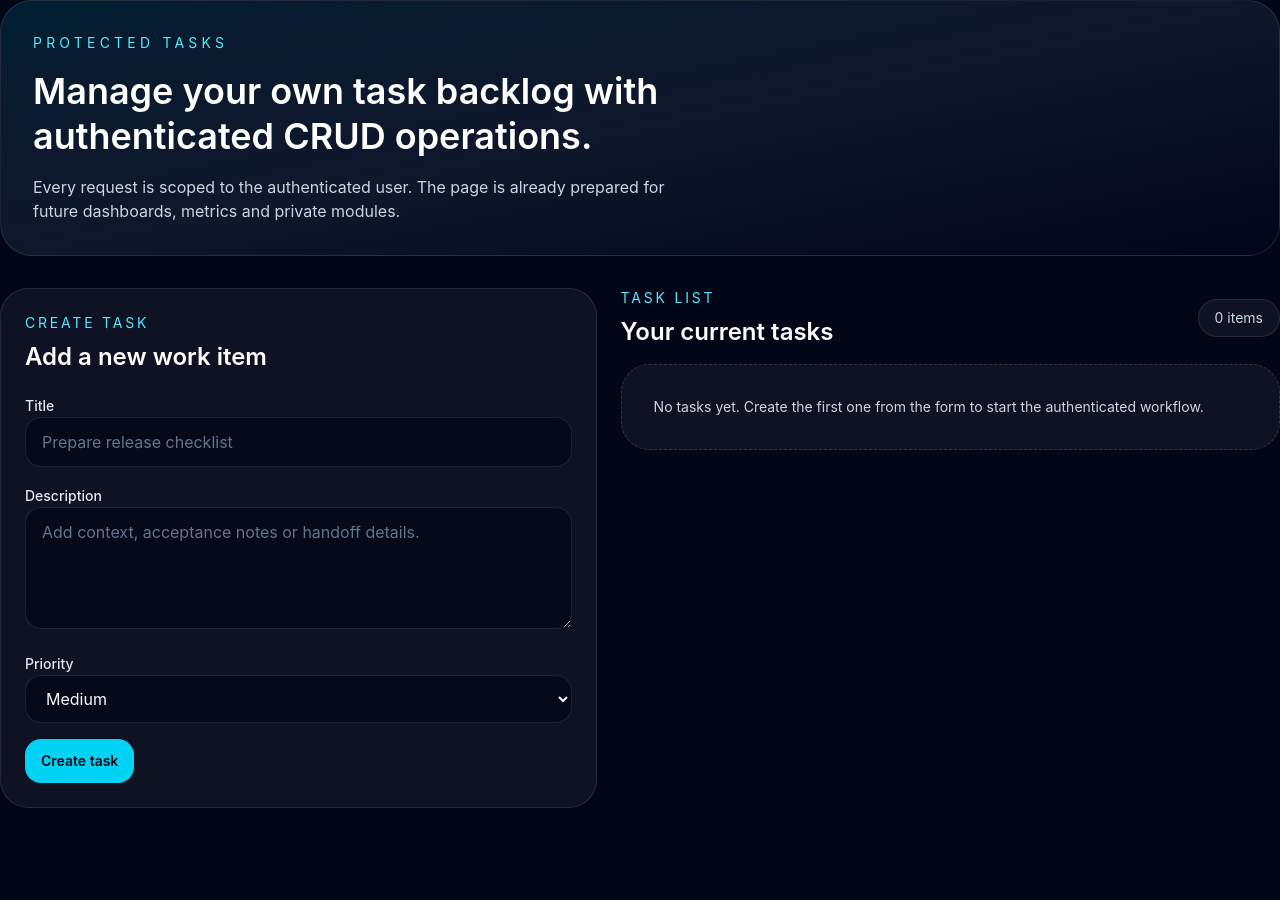
Test: TasksPage › creates a task through the form
Type "Create test task" into the field labelled "Title" at (298, 442), box [25,417,572,467]
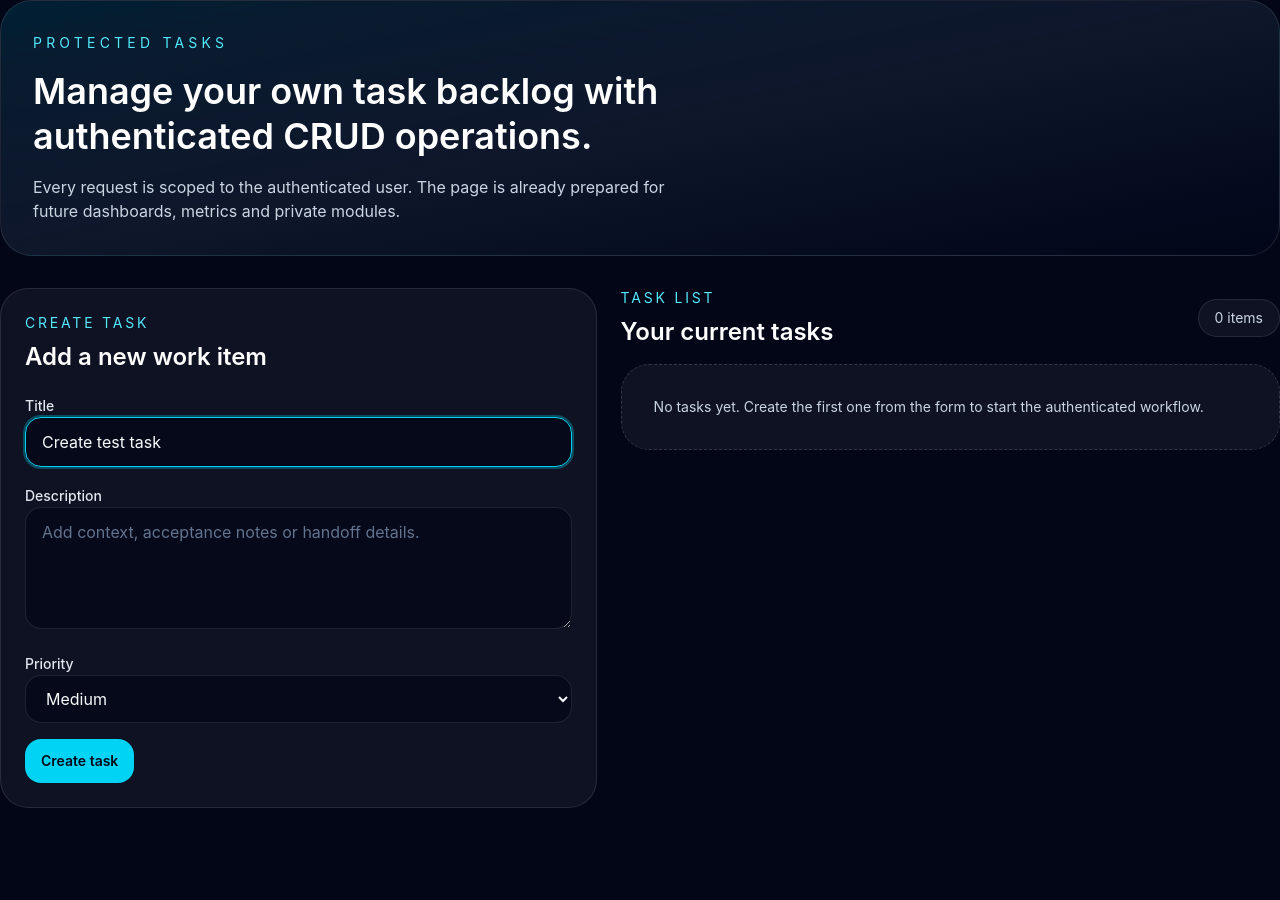
Type "Body" into the text box labelled "Description" at (298, 568), box [25,507,572,629]
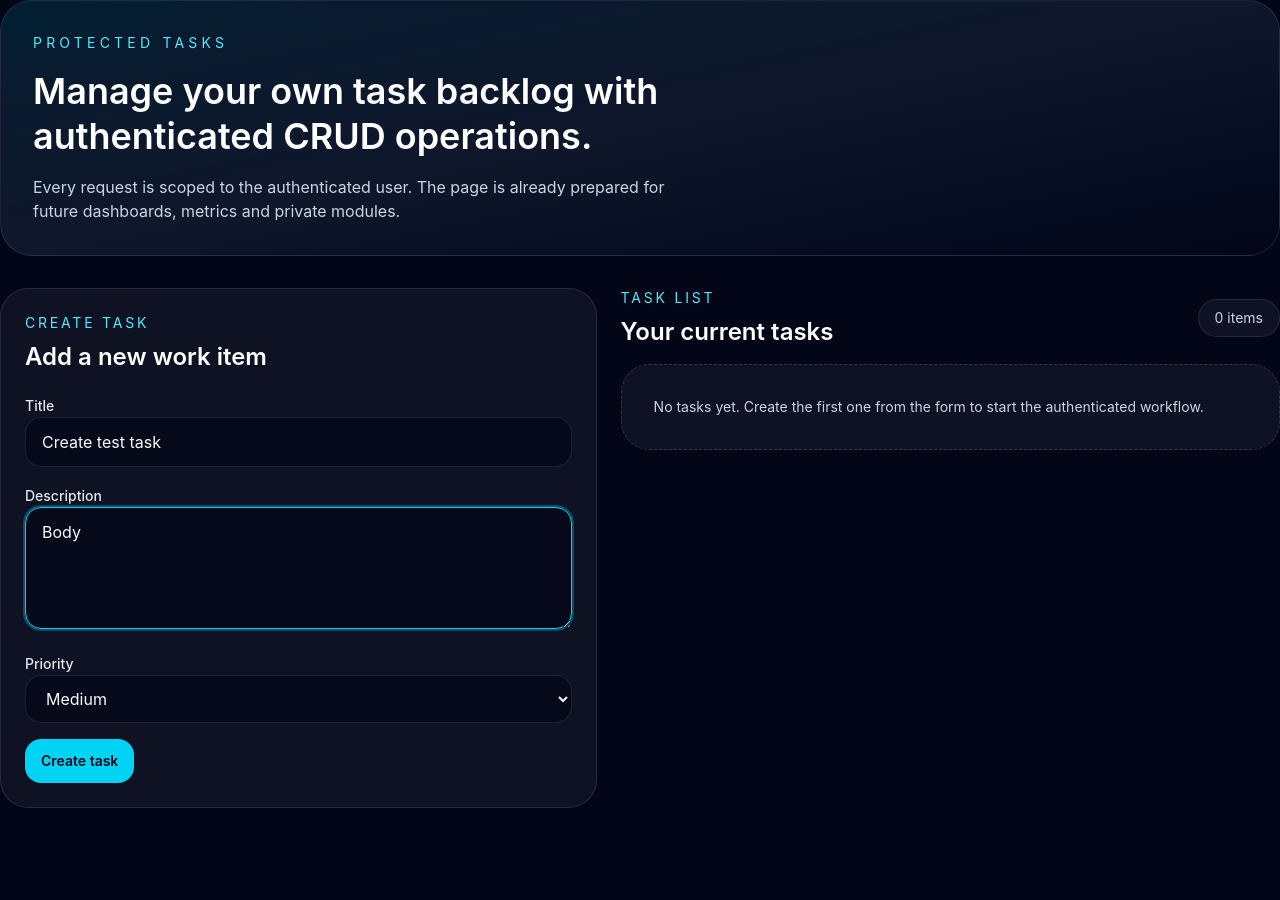
Select "High" in the dropdown labelled "Priority" at (298, 699), box [25,675,572,723]
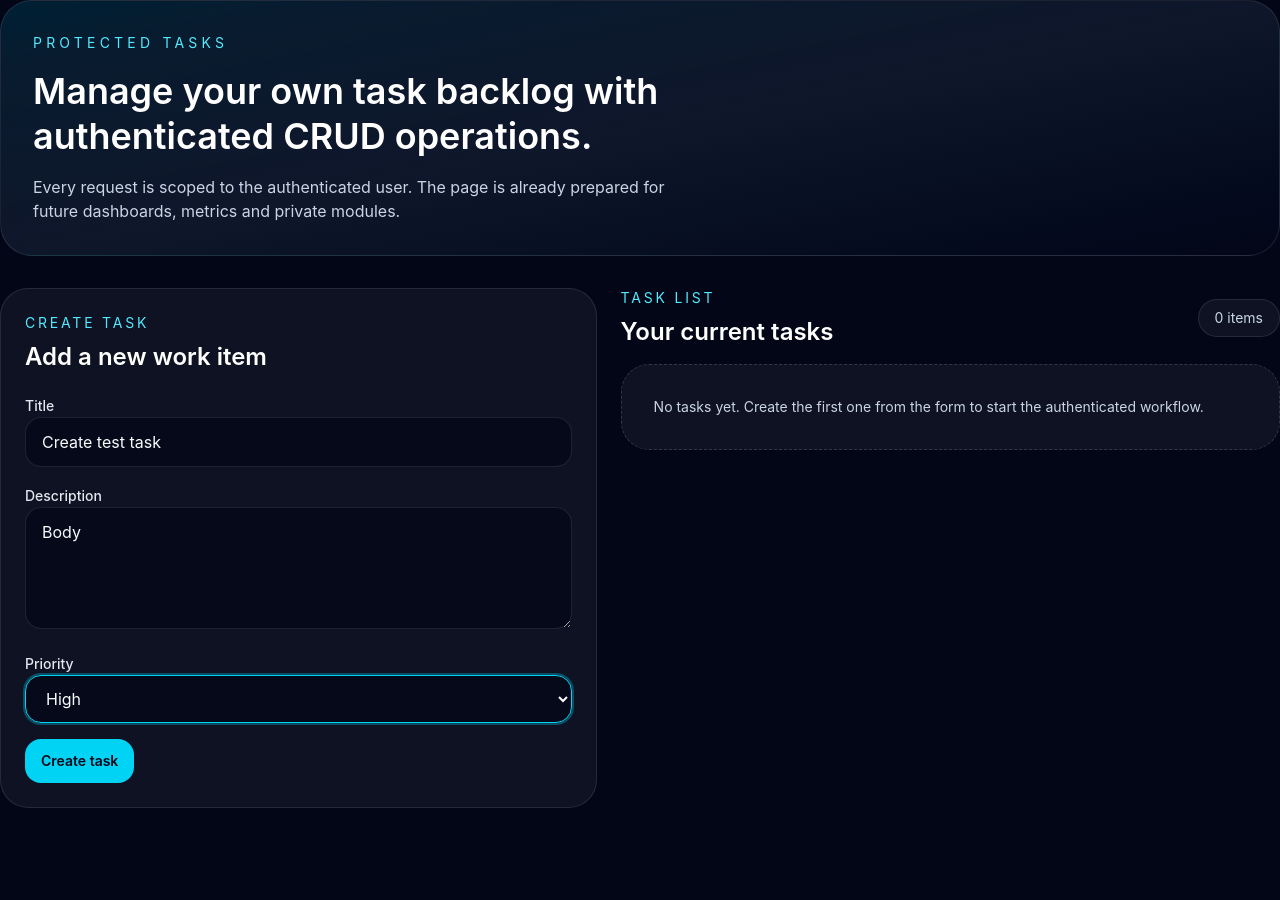
Click the button "Create task" at (80, 761), box [25,739,134,783]
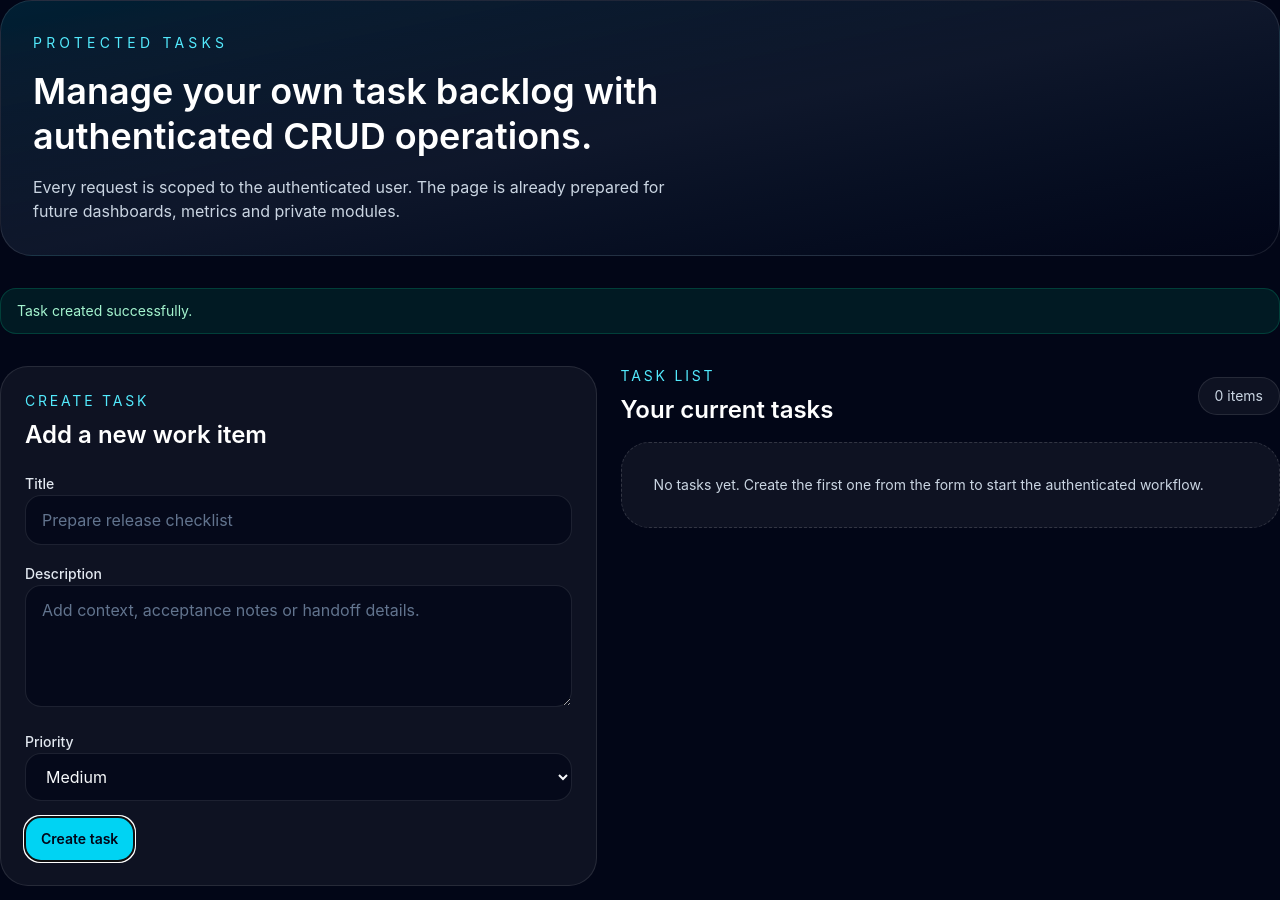
Check: the text "Task created successfully." is shown, box [0,288,1279,334]
